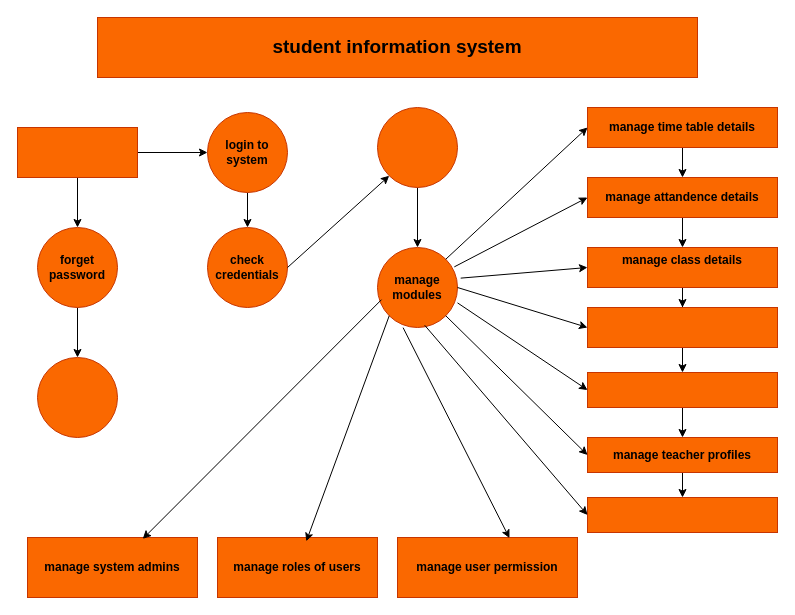
Some shapes in this 795 by 615 pixel diagram are drawn without their labels. Here are the shapes that lost their labels. From the top down, the centre of each, then its label:
[77,152]: Admin
[417,147]: check roles of access
[682,327]: manage student details
[77,397]: Send email to user
[682,390]: manage fees details
[682,514]: manage report
